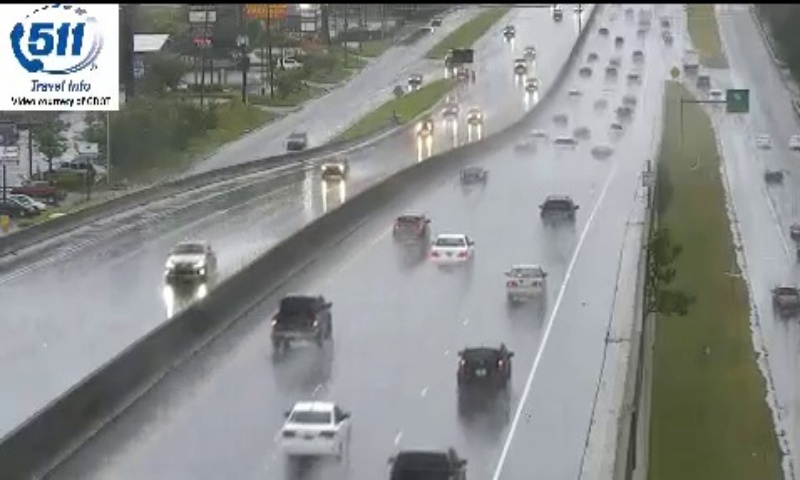car: (281, 401, 348, 457), (271, 293, 331, 340), (458, 342, 510, 390), (430, 232, 473, 266), (505, 264, 545, 299), (541, 196, 576, 228), (393, 215, 430, 243)
